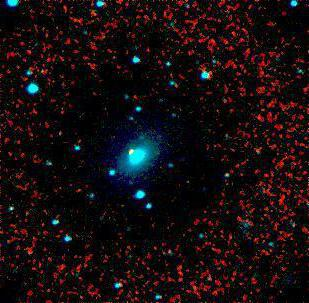star: (115, 139, 145, 169)
